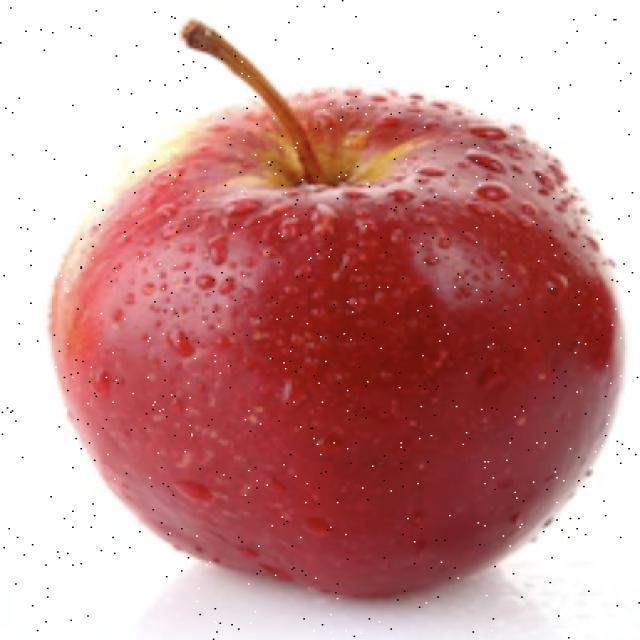Fresh Apple: (57, 85, 615, 588)
